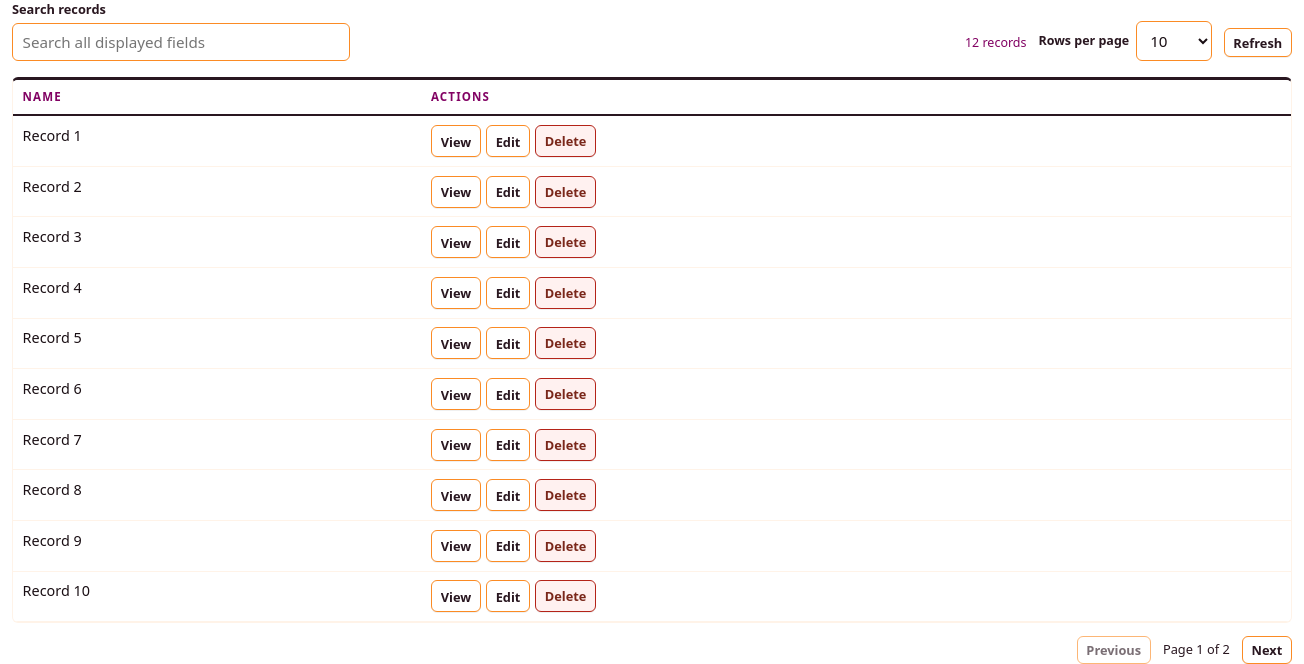
Test: ResourcePage data tools › paginates long lists and resets to page one when searching
The width and height of the screenshot is (1304, 664).
(page scrolled)
Check: the text "Page 1 of 2" is shown, box [1163,640,1230,660]
Check: the text "Record 11" is not shown
Click the button with aria-label "Next page" at coordinates (1267, 650), box [1242,636,1292,663]
(page scrolled)
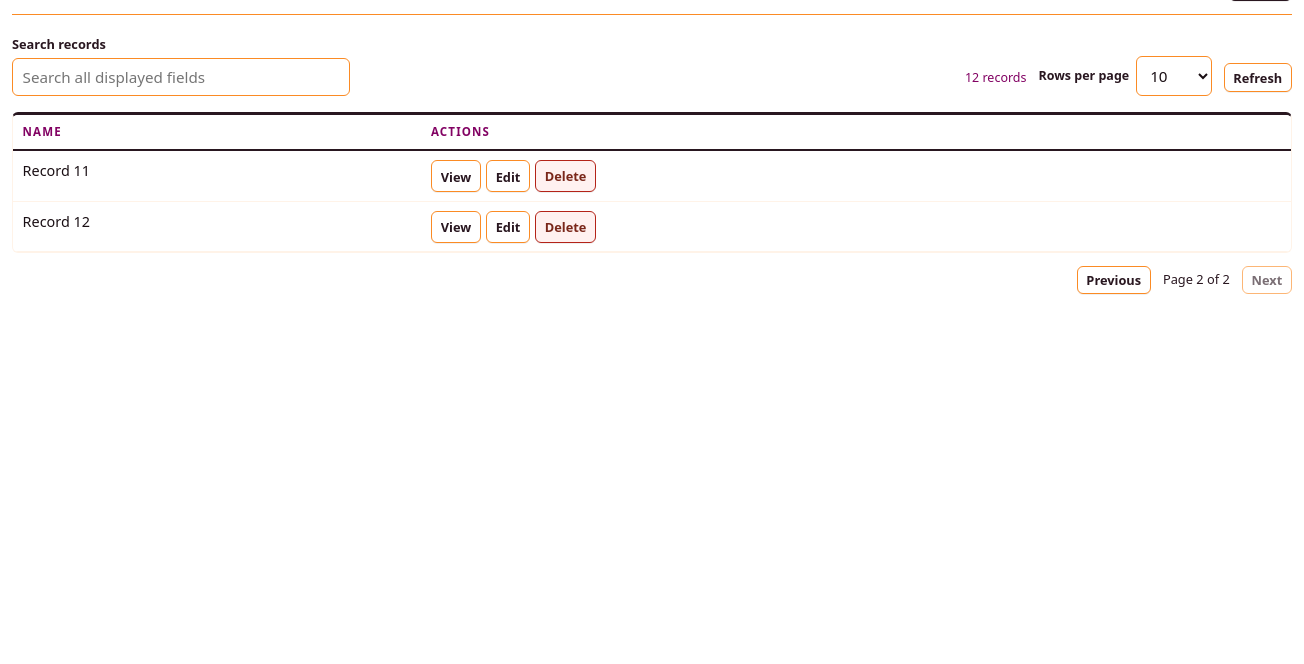
Check: the text "Record 11" is shown, box [13,150,421,201]
Check: the text "Page 2 of 2" is shown, box [1163,270,1230,290]
Type "Record 3" into the search field with placeholder "Search all displayed fields" at coordinates (181, 76), box [12,58,350,96]
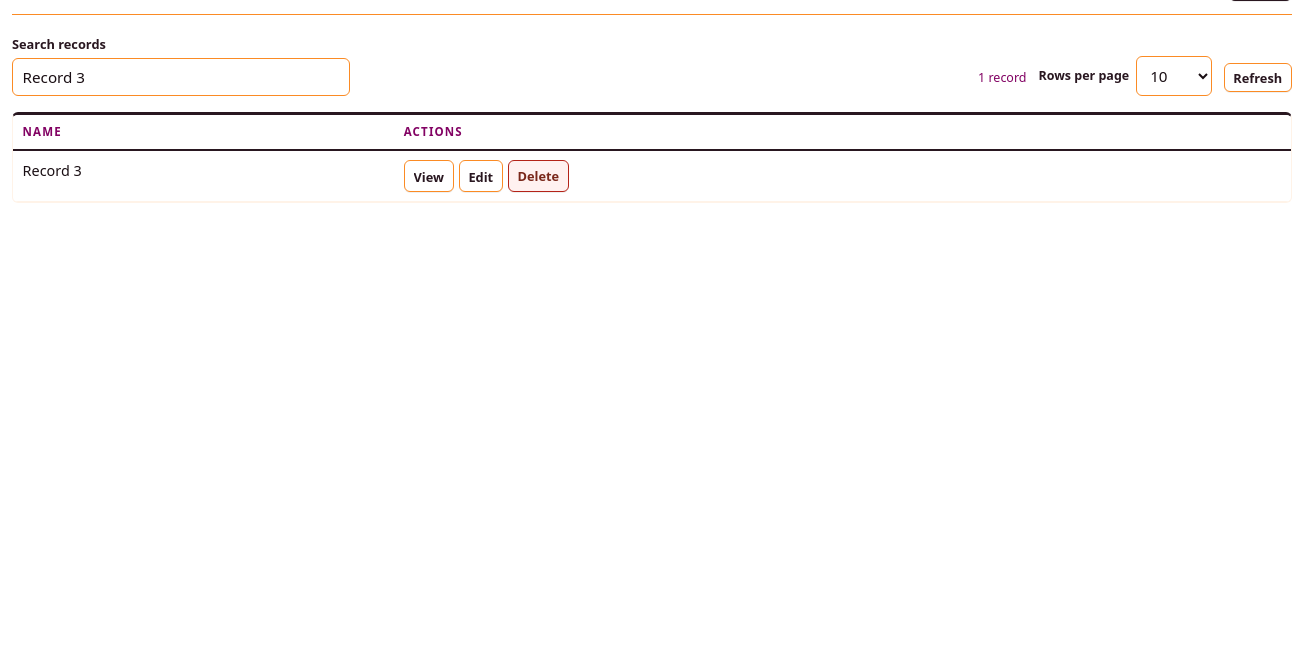
Check: the text "Record 3" is shown, box [13,150,394,201]
Check: the text "1 record" is shown, box [978,68,1026,87]
